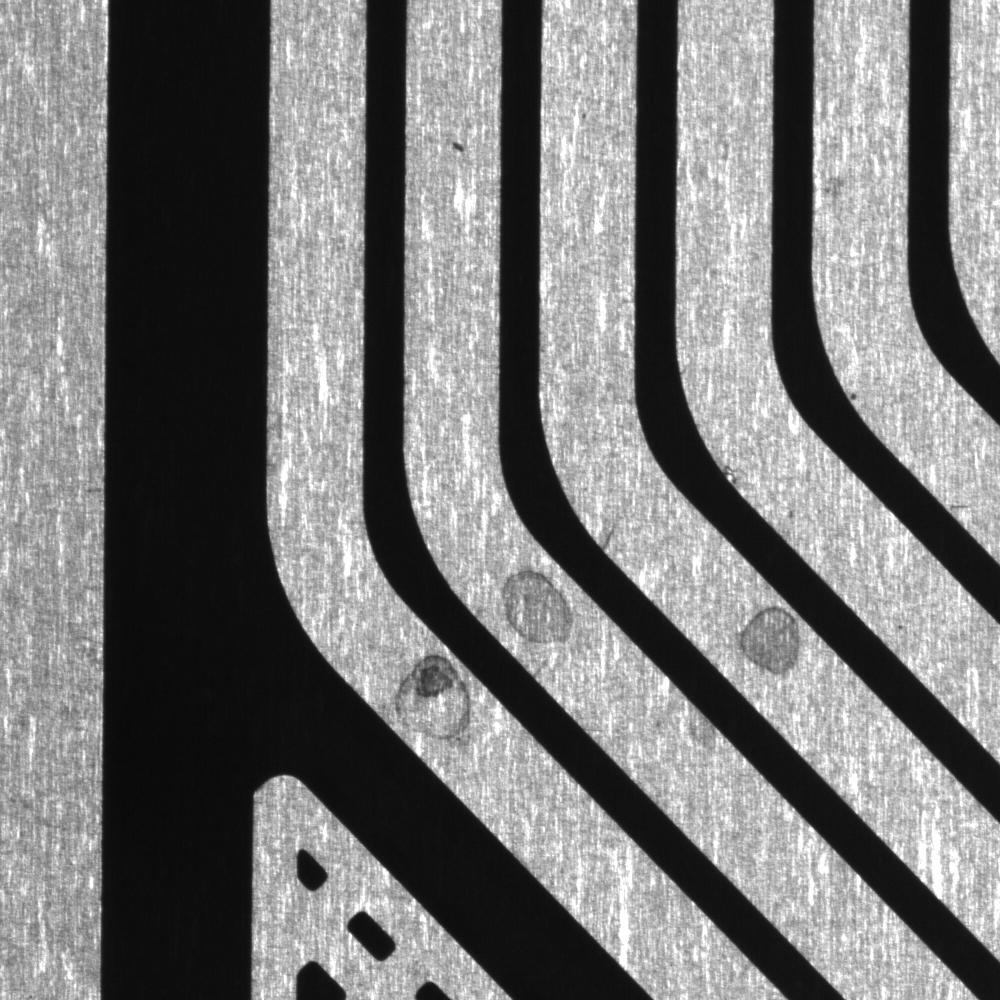Discolor: (379, 645, 479, 754), (490, 558, 591, 651), (728, 595, 815, 686)
Etching: (444, 125, 472, 163)
Pinhole: (845, 380, 866, 406)
Scar: (596, 502, 622, 556)
